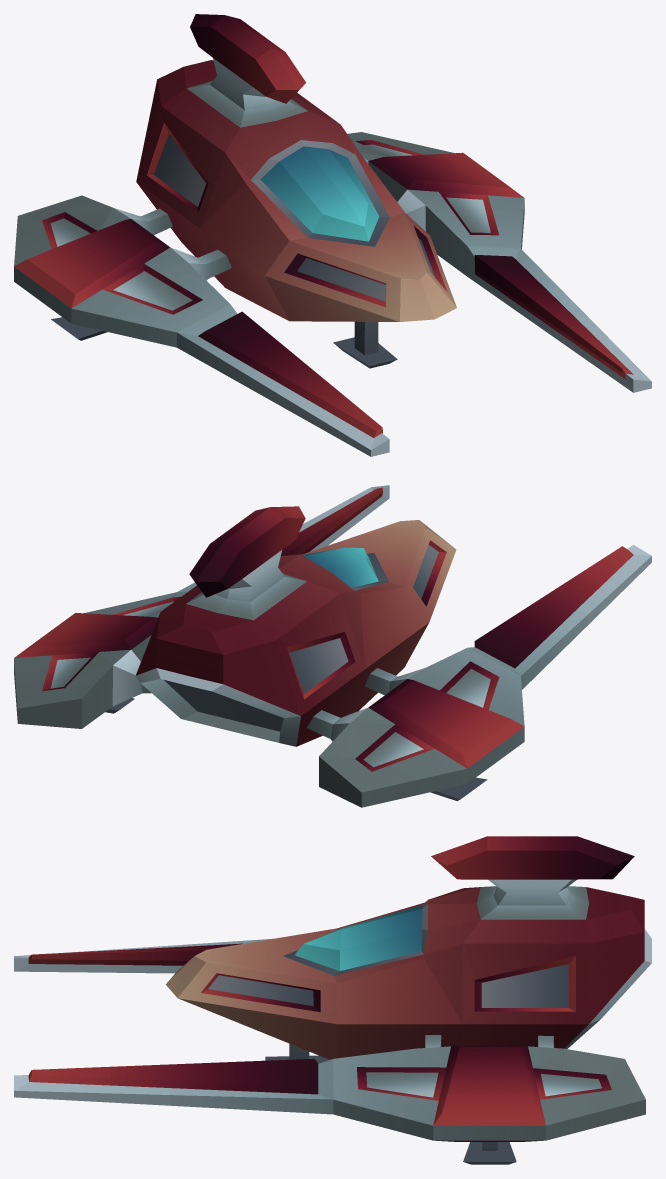
File: Spaceship_C_skin1.FBX
3 views of the same model, one above another, from view 1: azimuth 30°, elevation 25°; view 2: azimuth 150°, elevation 25°; view 3: azimuth 270°, elevation 25° (orthographic).
Parts seen in each view (by area): view 1: spaceship_c001, wing_c, wing_c001, Landing_gea_c; view 2: spaceship_c001, wing_c, wing_c001, Landing_gea_c001; view 3: spaceship_c001, wing_c001, wing_c, Landing_gea_c002.
Part boxes in pixels (x1=…): spaceship_c001: x1=136, y1=14, x2=456, y2=321; wing_c: x1=14, y1=195, x2=389, y2=456; wing_c001: x1=347, y1=132, x2=651, y2=392; Landing_gea_c: x1=333, y1=321, x2=397, y2=368; spaceship_c001: x1=135, y1=506, x2=456, y2=746; wing_c: x1=307, y1=545, x2=651, y2=807; wing_c001: x1=14, y1=485, x2=389, y2=728; Landing_gea_c001: x1=430, y1=777, x2=487, y2=800; spaceship_c001: x1=166, y1=836, x2=651, y2=1059; wing_c001: x1=14, y1=1035, x2=645, y2=1141; wing_c: x1=14, y1=938, x2=272, y2=973; Landing_gea_c002: x1=463, y1=1142, x2=516, y2=1164.
Bounding box in the file's own units: 13.58 × 6.81 × 16.86.
